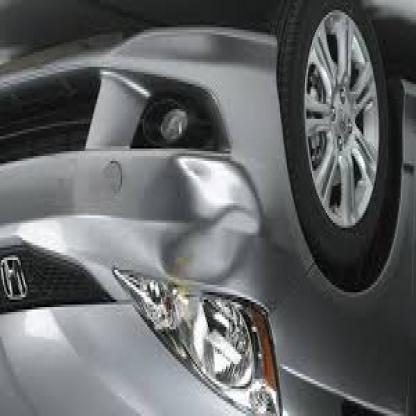dent: (154, 156, 258, 285)
